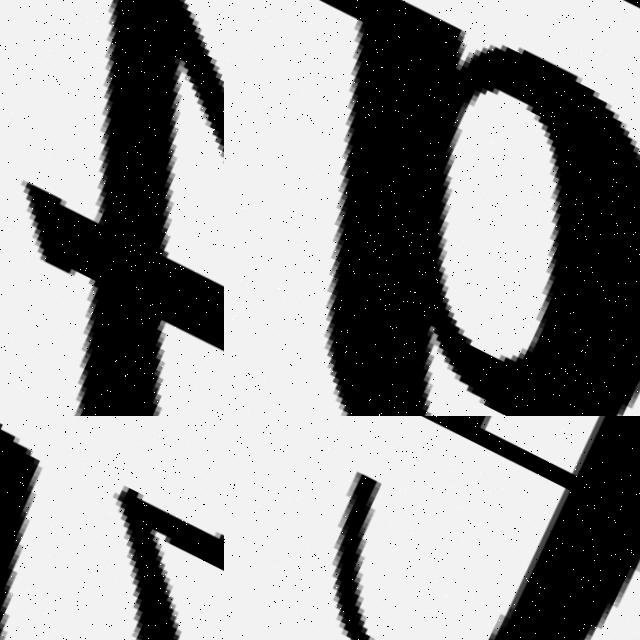E: (405, 416, 640, 640)
G: (224, 0, 640, 416)
W: (0, 416, 224, 640)
